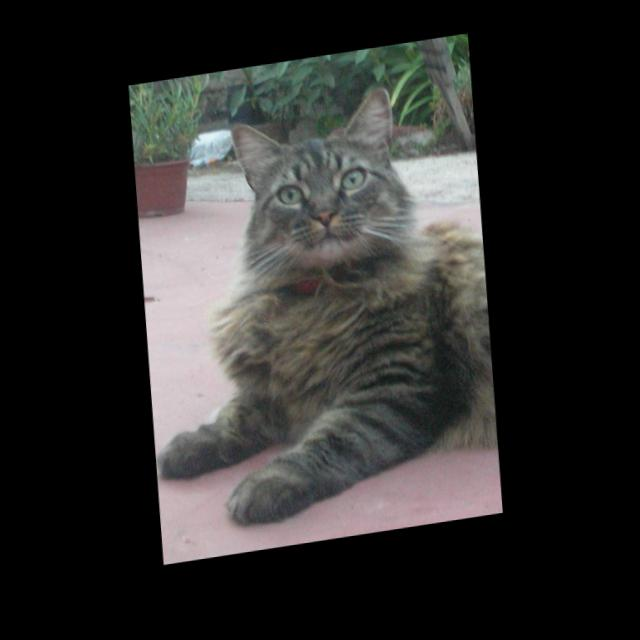animals: (233, 90, 397, 240)
